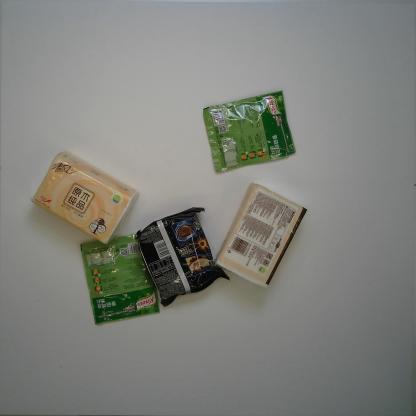Instant Noodles: (136, 206, 230, 308)
Seasoner: (202, 89, 295, 173), (80, 234, 161, 325)
Tissue: (30, 150, 138, 244), (214, 181, 307, 289)
